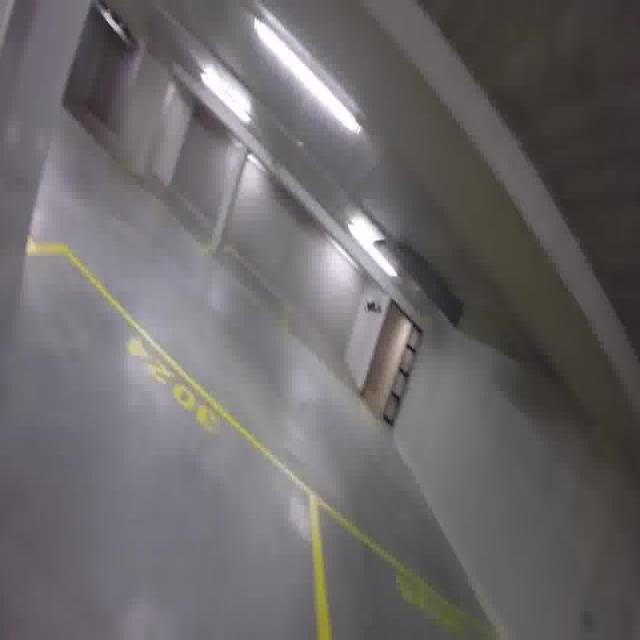drones: (361, 292, 384, 321)
